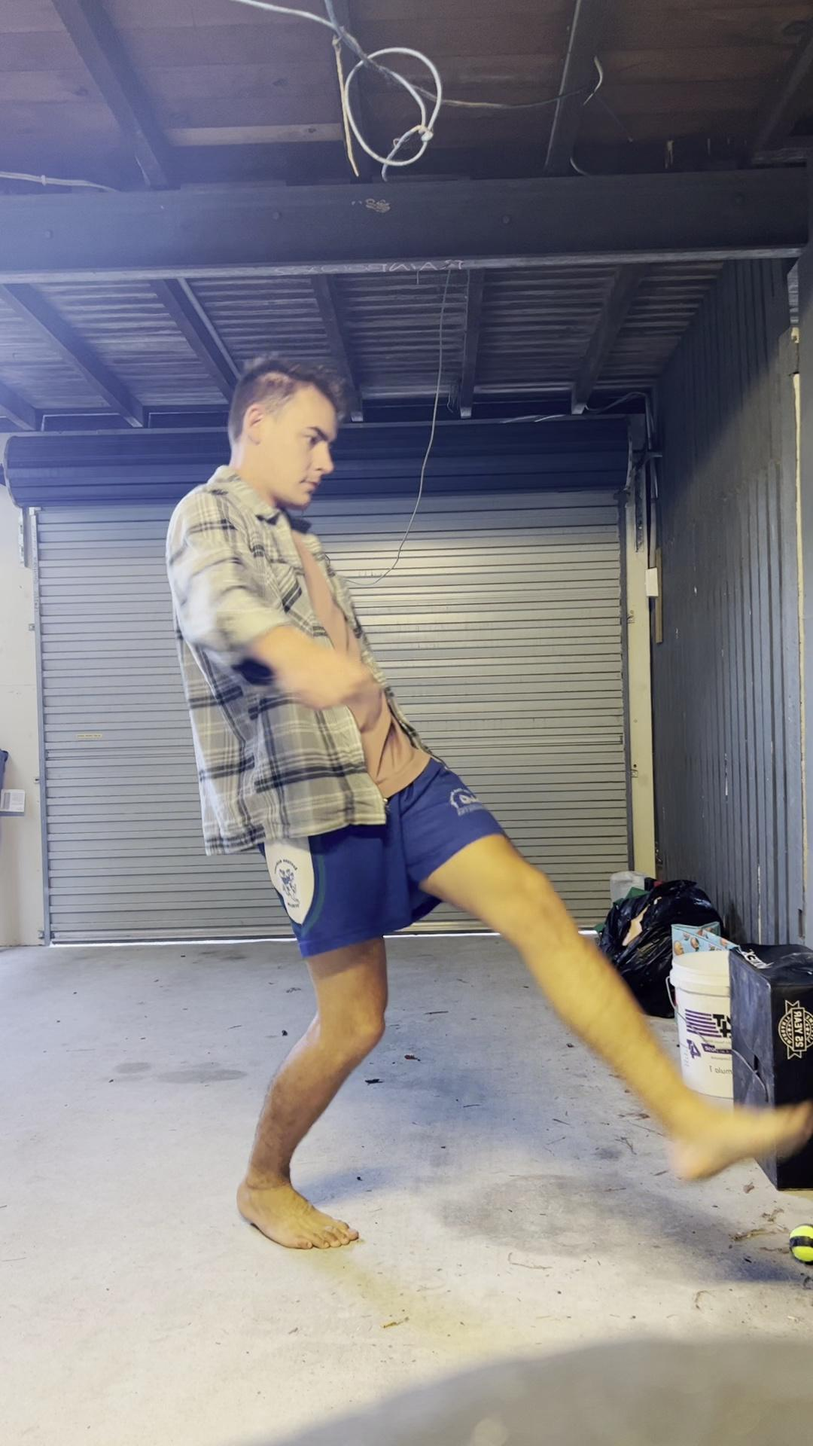foot: (655, 1090, 813, 1188), (237, 1179, 361, 1253)
person: (168, 354, 813, 1255)
